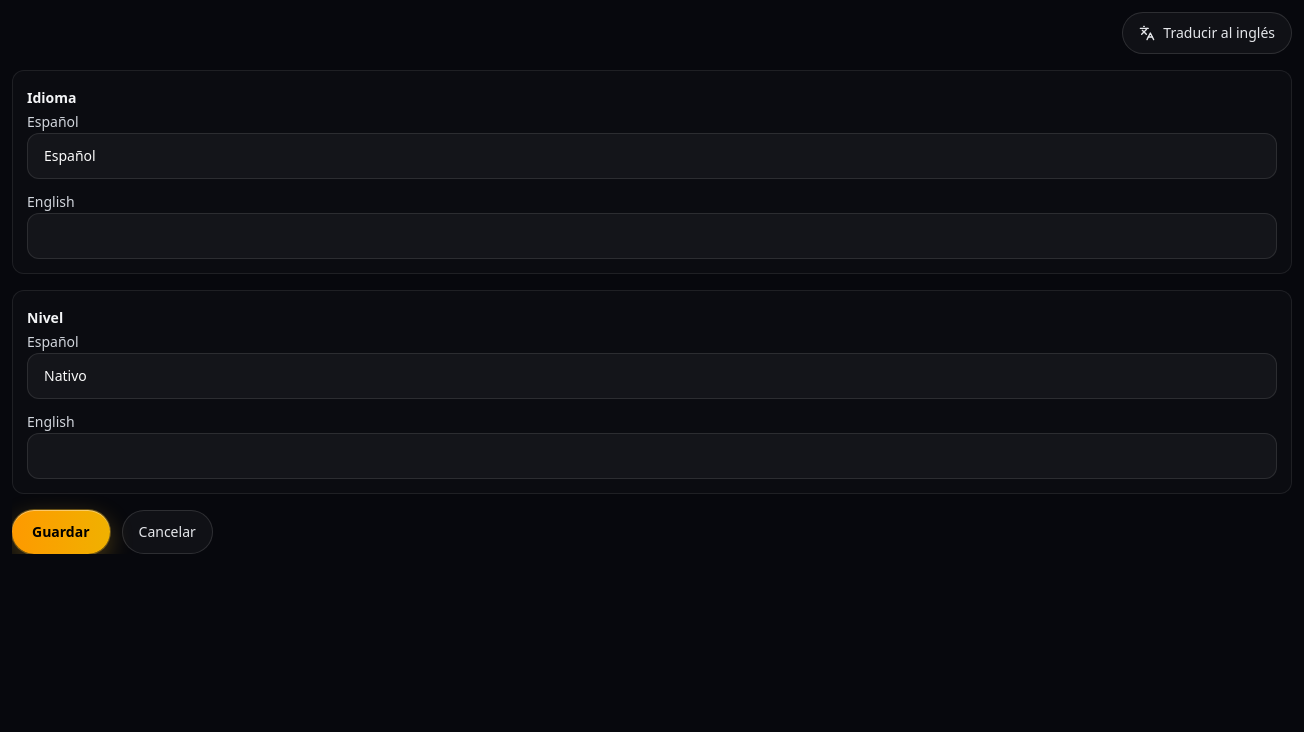
Test case: LanguageForm › rellena los campos en inglés al traducir
The width and height of the screenshot is (1304, 732).
Step 1. Click the button "Traducir al inglés" → x=1207, y=33, box [1122,12,1292,54]
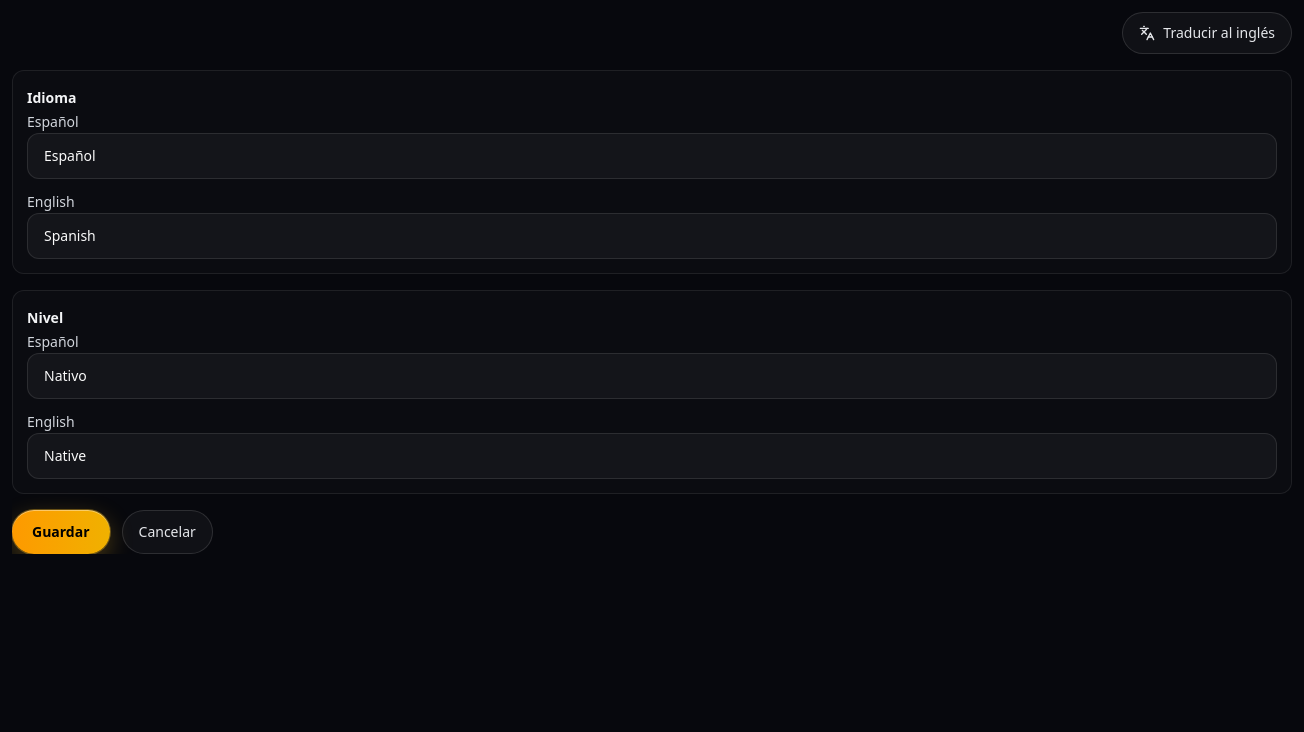
Now the field showing "Spanish" below "Idioma" is shown, box [27,213,1277,259]
Now the field showing "Native" below "Nivel" is shown, box [27,433,1277,479]
